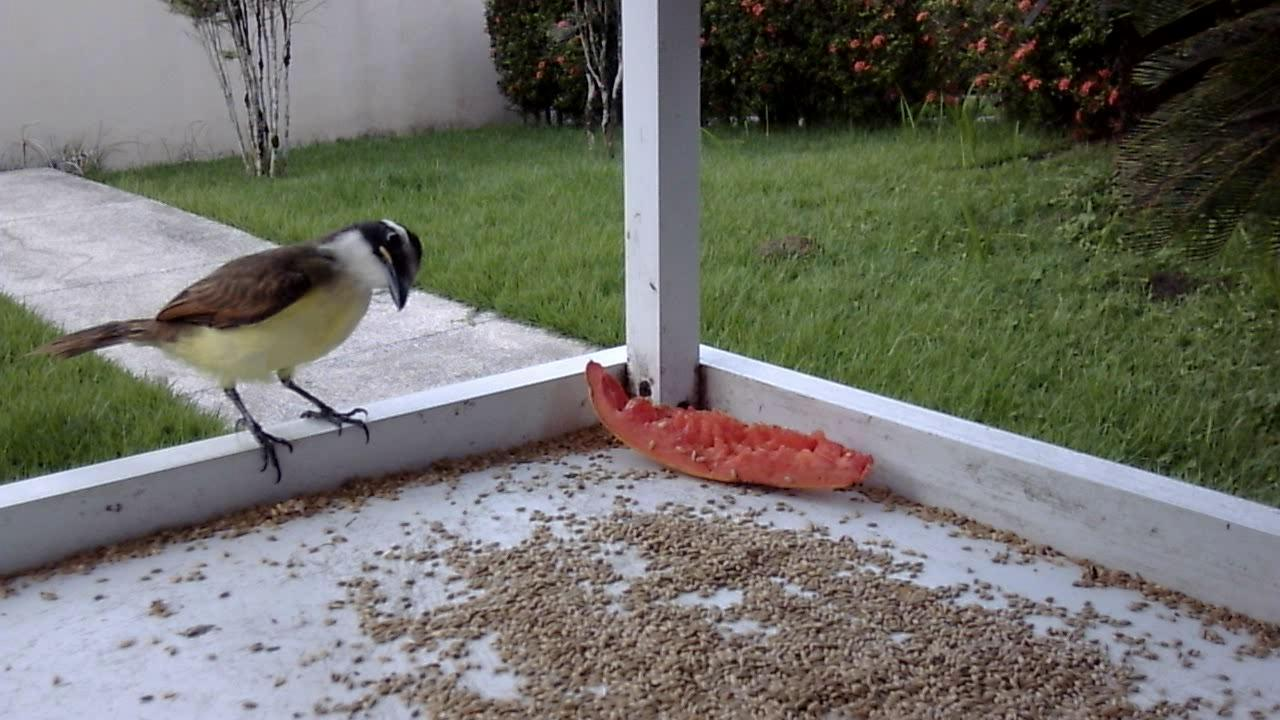bem_te_vi: (21, 204, 427, 501)
